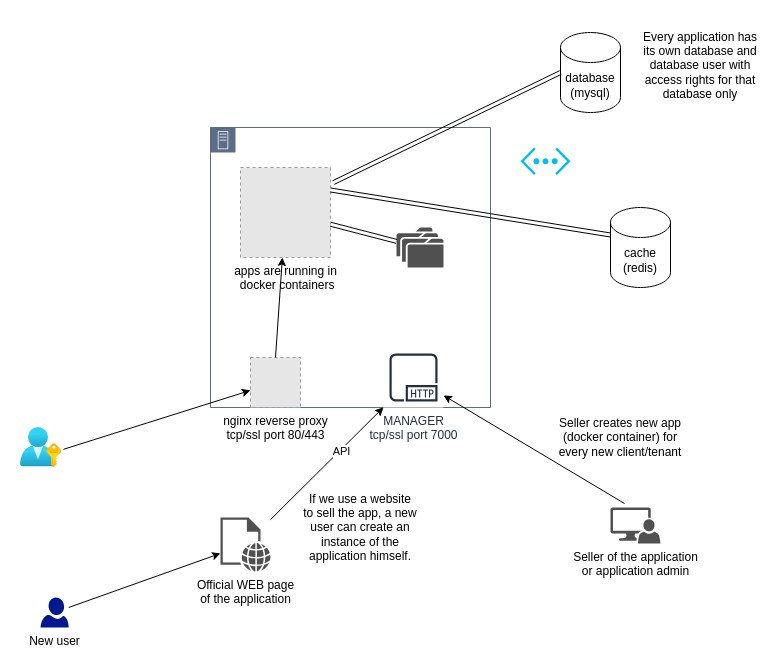
This 778x665 diagram has some shape labels left out. Grey dashed boxes stand in for pictures. Each missing label, with the box of its shape:
app server running docker engine: (210, 126, 490, 408)
App user: (20, 427, 61, 467)
every app has its own folder for data storage: (396, 227, 443, 267)
internal network: (520, 147, 570, 174)
